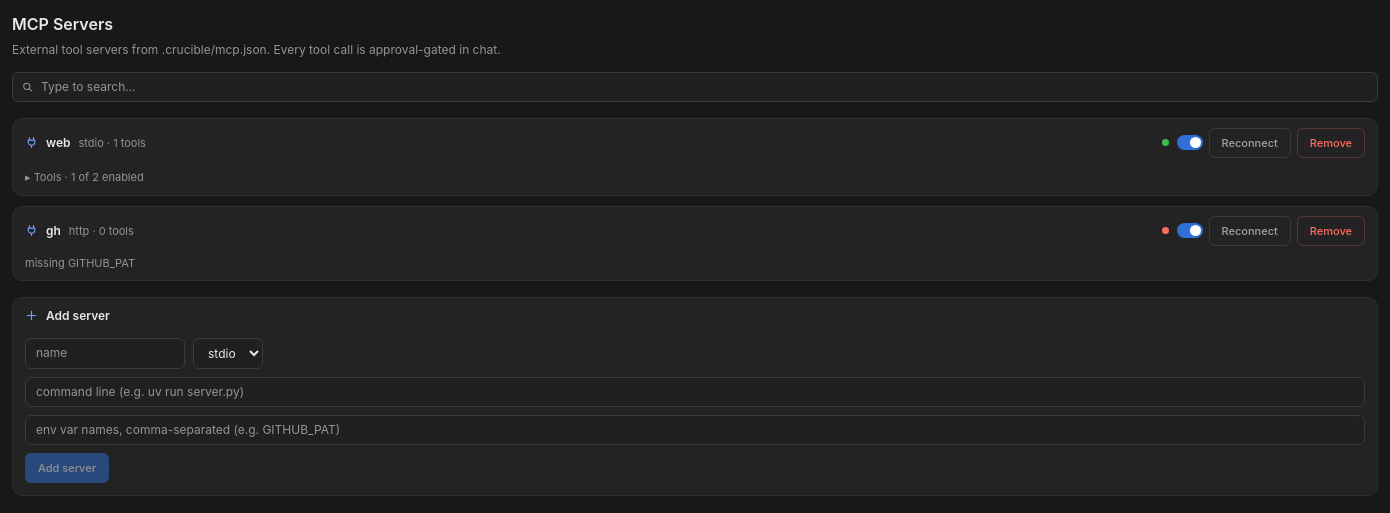
it: McpSection › filters servers via search
The image size is (1390, 513).
Type "gh" into the field with placeholder "Type to search…". click: (695, 86)
box: x1=12 y1=72 x2=1378 y2=102
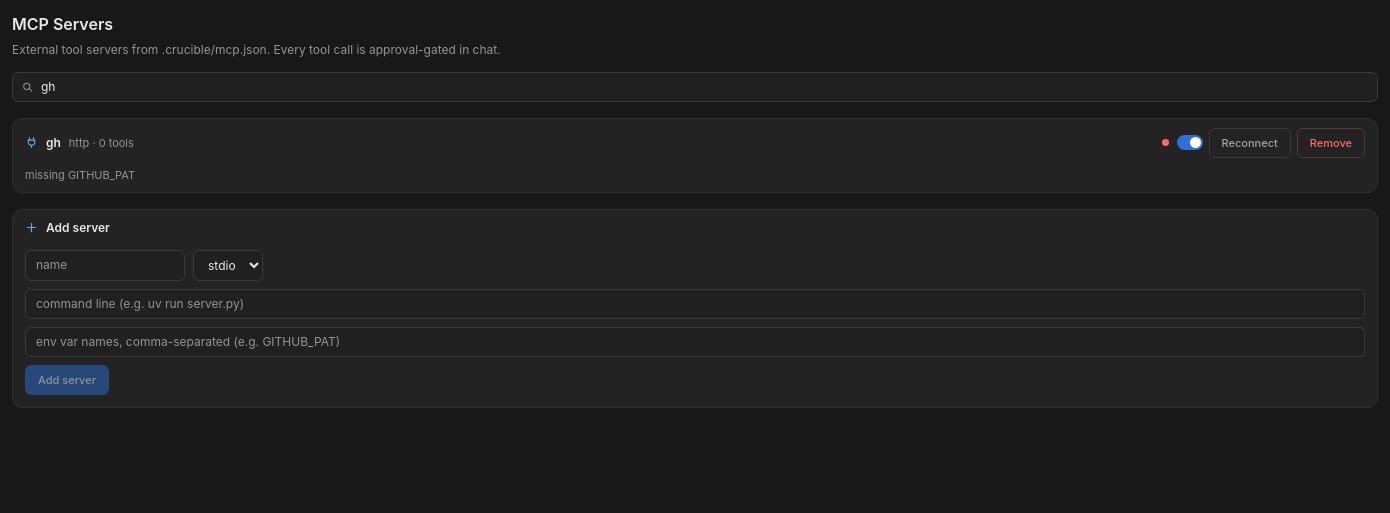
Check: the text "gh" is shown, box x1=46 y1=134 x2=61 y2=152
Check: the text "web" is gone
